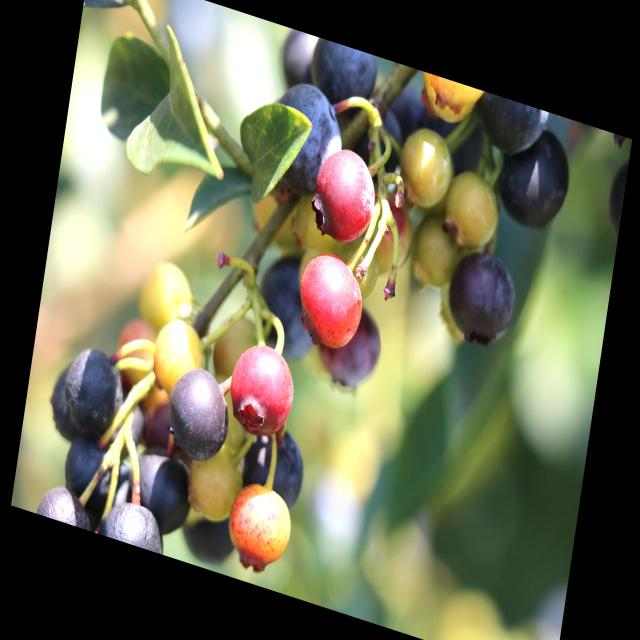blueberry: (266, 76, 350, 202), (492, 120, 574, 238), (250, 245, 326, 365), (445, 244, 518, 348), (164, 362, 236, 466), (314, 292, 385, 394), (242, 415, 313, 517), (126, 447, 198, 537), (307, 37, 380, 125), (62, 346, 124, 438), (480, 92, 547, 164), (61, 428, 120, 508), (100, 491, 171, 555), (281, 28, 323, 88)
blueberry-halfripe: (291, 242, 372, 351), (310, 136, 385, 252), (225, 334, 299, 441)
blueberry-unripe: (439, 158, 508, 255), (395, 121, 455, 218), (147, 310, 209, 402), (183, 443, 246, 527), (137, 257, 199, 339), (406, 206, 461, 294)
